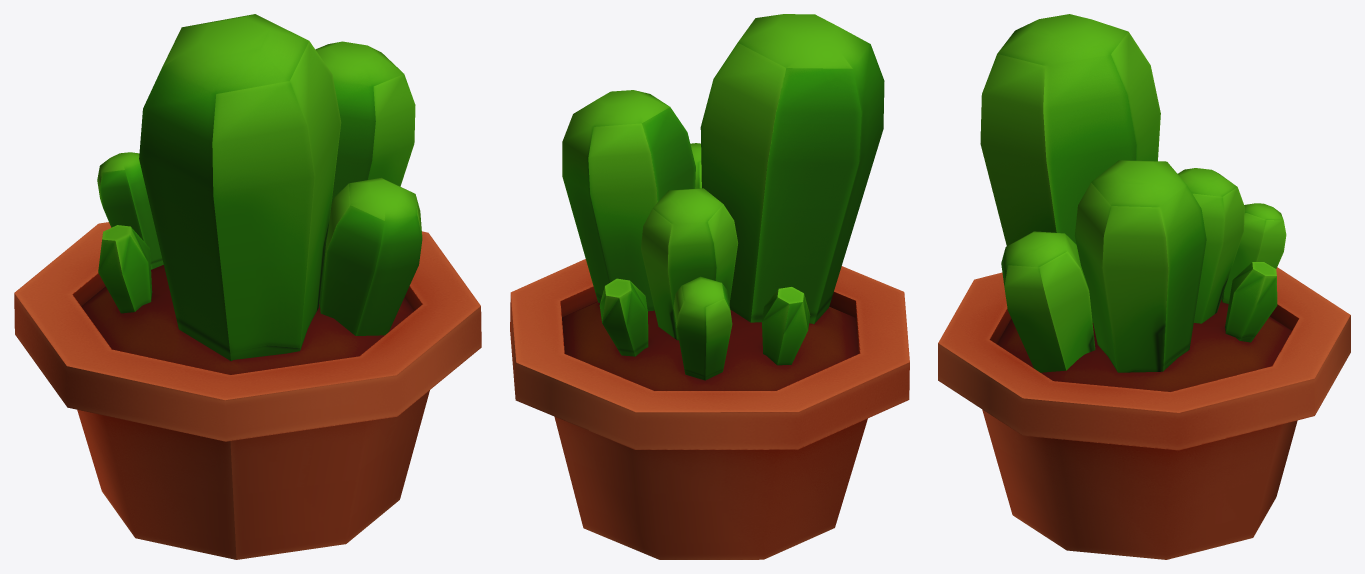
The model's file is cay4.fbx.
3 views of the same model, side by side, from view 1: azimuth 30°, elevation 25°; view 2: azimuth 150°, elevation 25°; view 3: azimuth 270°, elevation 25° (orthographic). The views are drawn at different scales.
Visible parts, largest first — view 1: group1; view 2: group1; view 3: group1.
Part boxes in pixels (<box>): group1: <box>14,14,481,559</box>; group1: <box>510,14,909,559</box>; group1: <box>938,14,1350,559</box>.
Size of the model in its own units: 78.18 by 95.99 by 78.06.
Materials: 1 (1 with a texture image).
